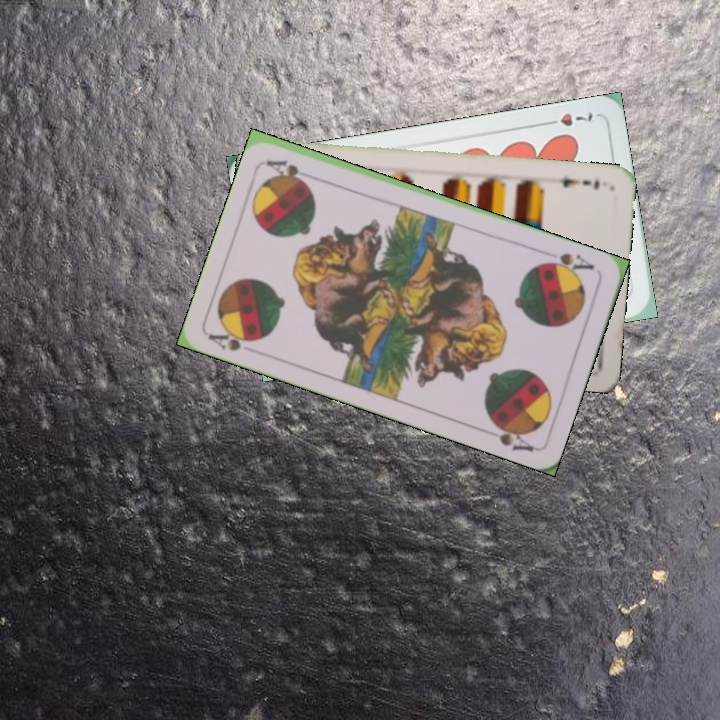E7: (551, 173, 602, 192)
H7: (539, 108, 595, 129)
SA: (538, 247, 597, 279), (204, 323, 264, 354)
